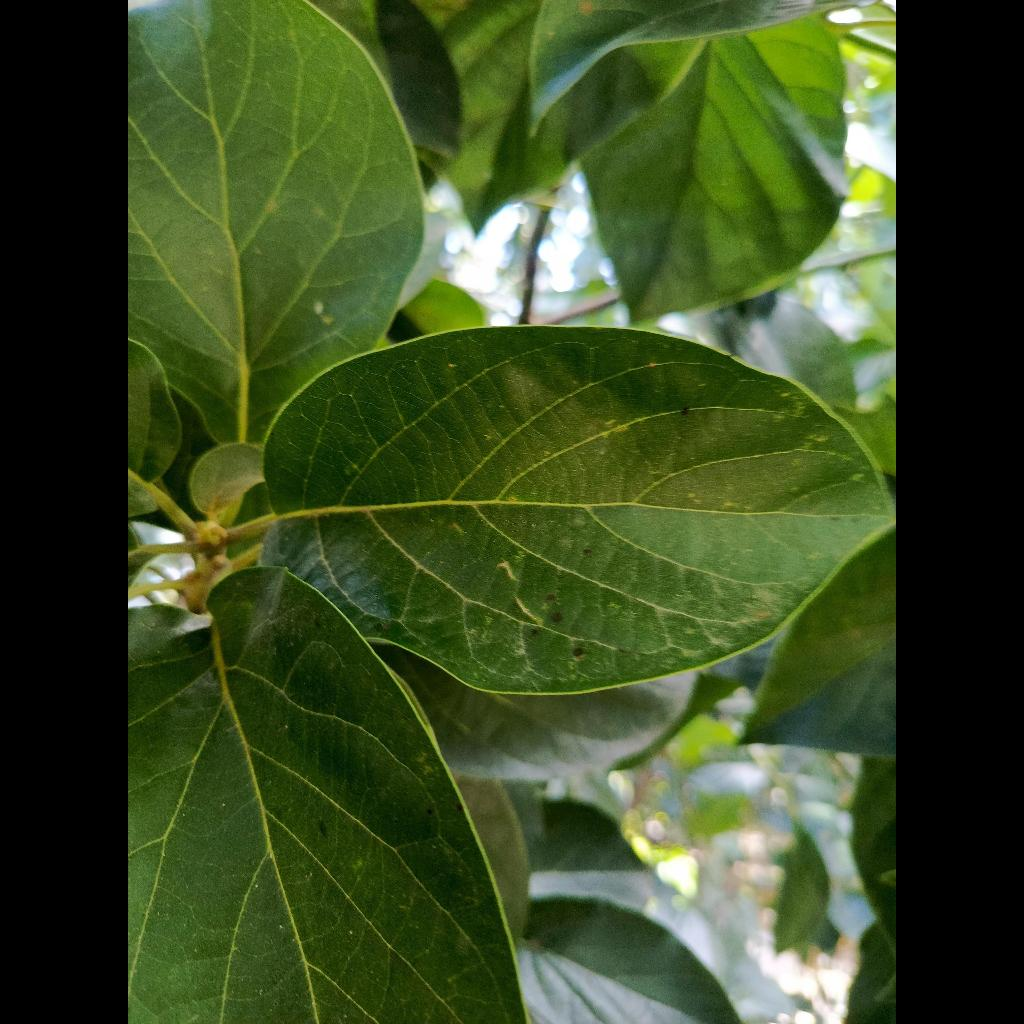hoja_sana: (259, 326, 889, 693), (128, 567, 525, 1024), (128, 0, 423, 443)
